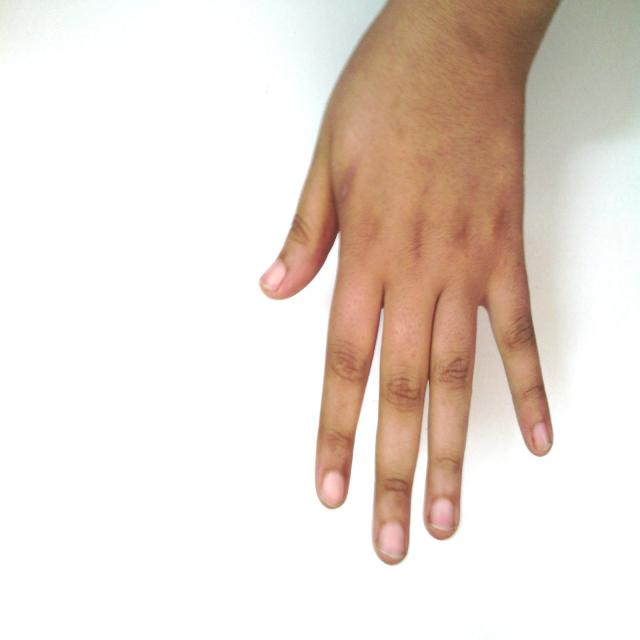others: (249, 1, 600, 572)
